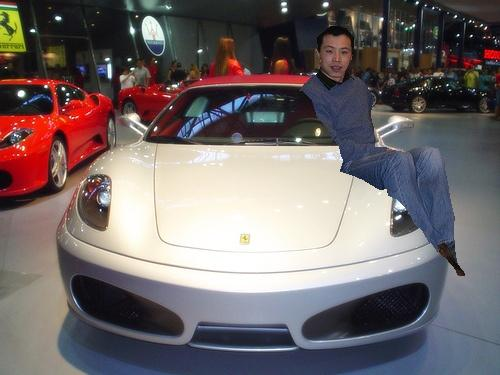tampered: (300, 27, 465, 276)
